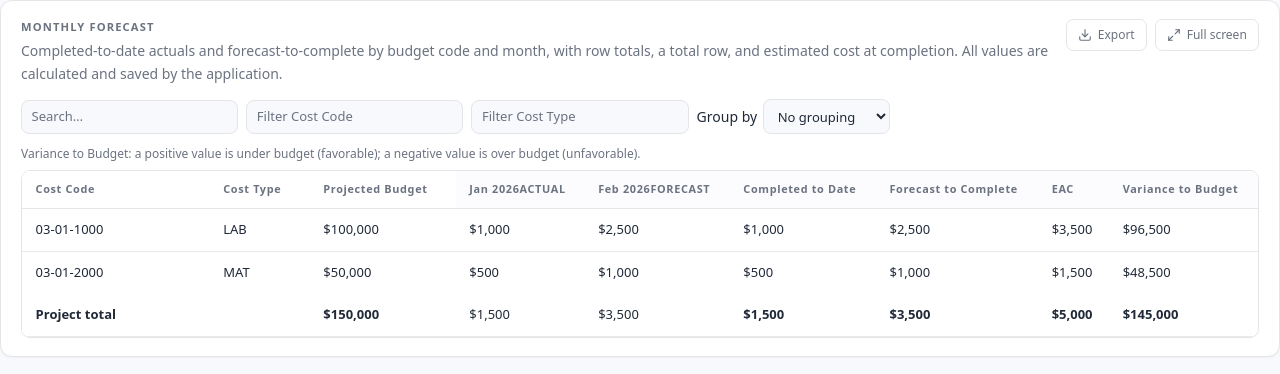
Test: ForecastMonthlyMatrixPanel › shows PDF as disabled/deferred with explanatory copy
The image size is (1280, 374).
Check: the text "03-01-1000" is shown, box [36,220,104,238]
Click the button "Export" at (1106, 35), box [1066,19,1147,51]
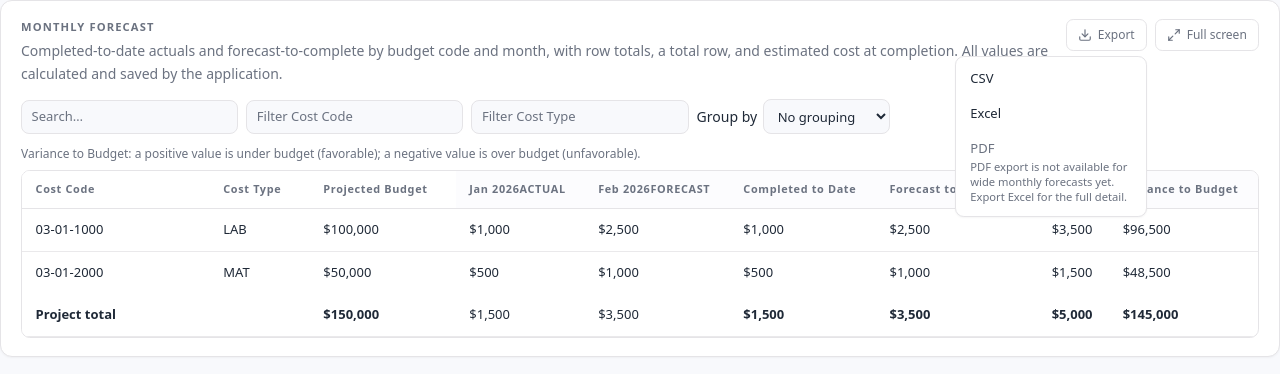
Check: the text "PDF export is not available for wide monthly forecasts yet" is shown, box [970,159,1128,204]
